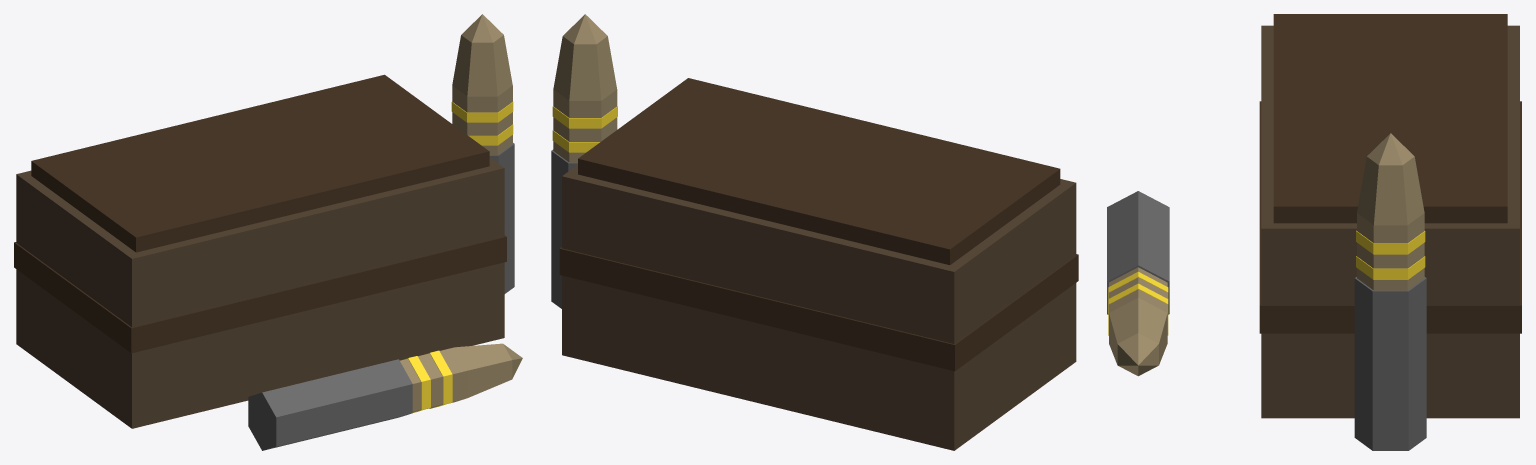
File: ce_ammo2_rcl84_hedp_c.obj
3 renders of one model, left to right at view 1: azimuth 30°, elevation 25°; view 2: azimuth 150°, elevation 25°; view 3: azimuth 270°, elevation 25°, orthographic. The views are drawn at different scales.
Parts seen in each view (by area): view 1: ce_ammo2_rcl84_hedp_c_0, ce_ammo2_rcl84_hedp_c_1, ce_ammo2_rcl84_hedp_c_2, ce_ammo2_rcl84_hedp_c_11, ce_ammo2_rcl84_hedp_c_9, ce_ammo2_rcl84_hedp_c_17, ce_ammo2_rcl84_hedp_c_3, ce_ammo2_rcl84_hedp_c_8, ce_ammo2_rcl84_hedp_c_16, ce_ammo2_rcl84_hedp_c_6, ce_ammo2_rcl84_hedp_c_10, ce_ammo2_rcl84_hedp_c_7 (+4 smaller); view 2: ce_ammo2_rcl84_hedp_c_0, ce_ammo2_rcl84_hedp_c_1, ce_ammo2_rcl84_hedp_c_2, ce_ammo2_rcl84_hedp_c_9, ce_ammo2_rcl84_hedp_c_3, ce_ammo2_rcl84_hedp_c_8, ce_ammo2_rcl84_hedp_c_6, ce_ammo2_rcl84_hedp_c_10, ce_ammo2_rcl84_hedp_c_7; view 3: ce_ammo2_rcl84_hedp_c_1, ce_ammo2_rcl84_hedp_c_0, ce_ammo2_rcl84_hedp_c_3, ce_ammo2_rcl84_hedp_c_2, ce_ammo2_rcl84_hedp_c_11, ce_ammo2_rcl84_hedp_c_9, ce_ammo2_rcl84_hedp_c_17, ce_ammo2_rcl84_hedp_c_18, ce_ammo2_rcl84_hedp_c_8, ce_ammo2_rcl84_hedp_c_6, ce_ammo2_rcl84_hedp_c_10, ce_ammo2_rcl84_hedp_c_7 (+4 smaller).
Boxes of the visible parts, left/top/right/bottom form: ce_ammo2_rcl84_hedp_c_0: left=16, top=157, right=504, bottom=428; ce_ammo2_rcl84_hedp_c_1: left=31, top=74, right=489, bottom=252; ce_ammo2_rcl84_hedp_c_2: left=14, top=235, right=506, bottom=353; ce_ammo2_rcl84_hedp_c_11: left=248, top=359, right=412, bottom=450; ce_ammo2_rcl84_hedp_c_9: left=452, top=35, right=512, bottom=96; ce_ammo2_rcl84_hedp_c_17: left=455, top=343, right=512, bottom=397; ce_ammo2_rcl84_hedp_c_3: left=489, top=143, right=514, bottom=293; ce_ammo2_rcl84_hedp_c_8: left=452, top=85, right=512, bottom=112; ce_ammo2_rcl84_hedp_c_16: left=439, top=347, right=467, bottom=403; ce_ammo2_rcl84_hedp_c_6: left=452, top=112, right=512, bottom=135; ce_ammo2_rcl84_hedp_c_10: left=461, top=14, right=503, bottom=42; ce_ammo2_rcl84_hedp_c_7: left=451, top=101, right=513, bottom=122; ce_ammo2_rcl84_hedp_c_0: left=562, top=165, right=1076, bottom=450; ce_ammo2_rcl84_hedp_c_1: left=578, top=78, right=1060, bottom=264; ce_ammo2_rcl84_hedp_c_2: left=559, top=247, right=1078, bottom=371; ce_ammo2_rcl84_hedp_c_9: left=553, top=36, right=616, bottom=100; ce_ammo2_rcl84_hedp_c_3: left=551, top=149, right=577, bottom=308; ce_ammo2_rcl84_hedp_c_8: left=553, top=89, right=617, bottom=117; ce_ammo2_rcl84_hedp_c_6: left=553, top=117, right=617, bottom=141; ce_ammo2_rcl84_hedp_c_10: left=563, top=14, right=607, bottom=44; ce_ammo2_rcl84_hedp_c_7: left=552, top=106, right=617, bottom=128; ce_ammo2_rcl84_hedp_c_1: left=1273, top=14, right=1507, bottom=223; ce_ammo2_rcl84_hedp_c_0: left=1261, top=25, right=1519, bottom=418; ce_ammo2_rcl84_hedp_c_3: left=1354, top=277, right=1426, bottom=450; ce_ammo2_rcl84_hedp_c_2: left=1259, top=101, right=1521, bottom=333; ce_ammo2_rcl84_hedp_c_11: left=1107, top=191, right=1169, bottom=314; ce_ammo2_rcl84_hedp_c_9: left=1357, top=156, right=1424, bottom=225; ce_ammo2_rcl84_hedp_c_17: left=1109, top=297, right=1167, bottom=364; ce_ammo2_rcl84_hedp_c_18: left=1117, top=333, right=1158, bottom=376; ce_ammo2_rcl84_hedp_c_8: left=1357, top=213, right=1424, bottom=243; ce_ammo2_rcl84_hedp_c_6: left=1357, top=242, right=1424, bottom=268; ce_ammo2_rcl84_hedp_c_10: left=1367, top=133, right=1414, bottom=165; ce_ammo2_rcl84_hedp_c_7: left=1356, top=230, right=1425, bottom=254.
Size of the model in its own units: 0.9087 by 0.546 by 0.6737.
